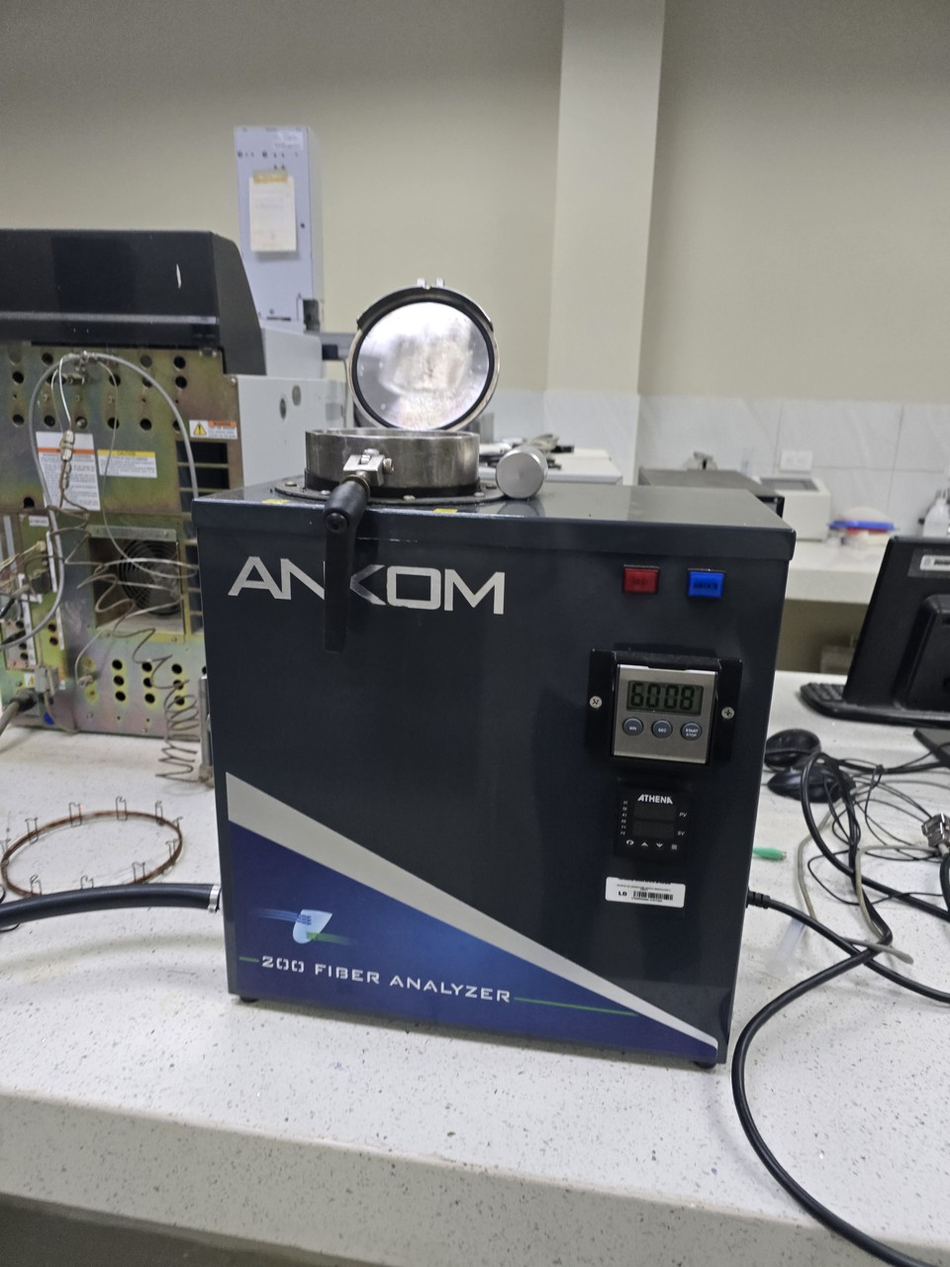ankom_200_fiber_analyzer: (161, 300, 857, 1133)
